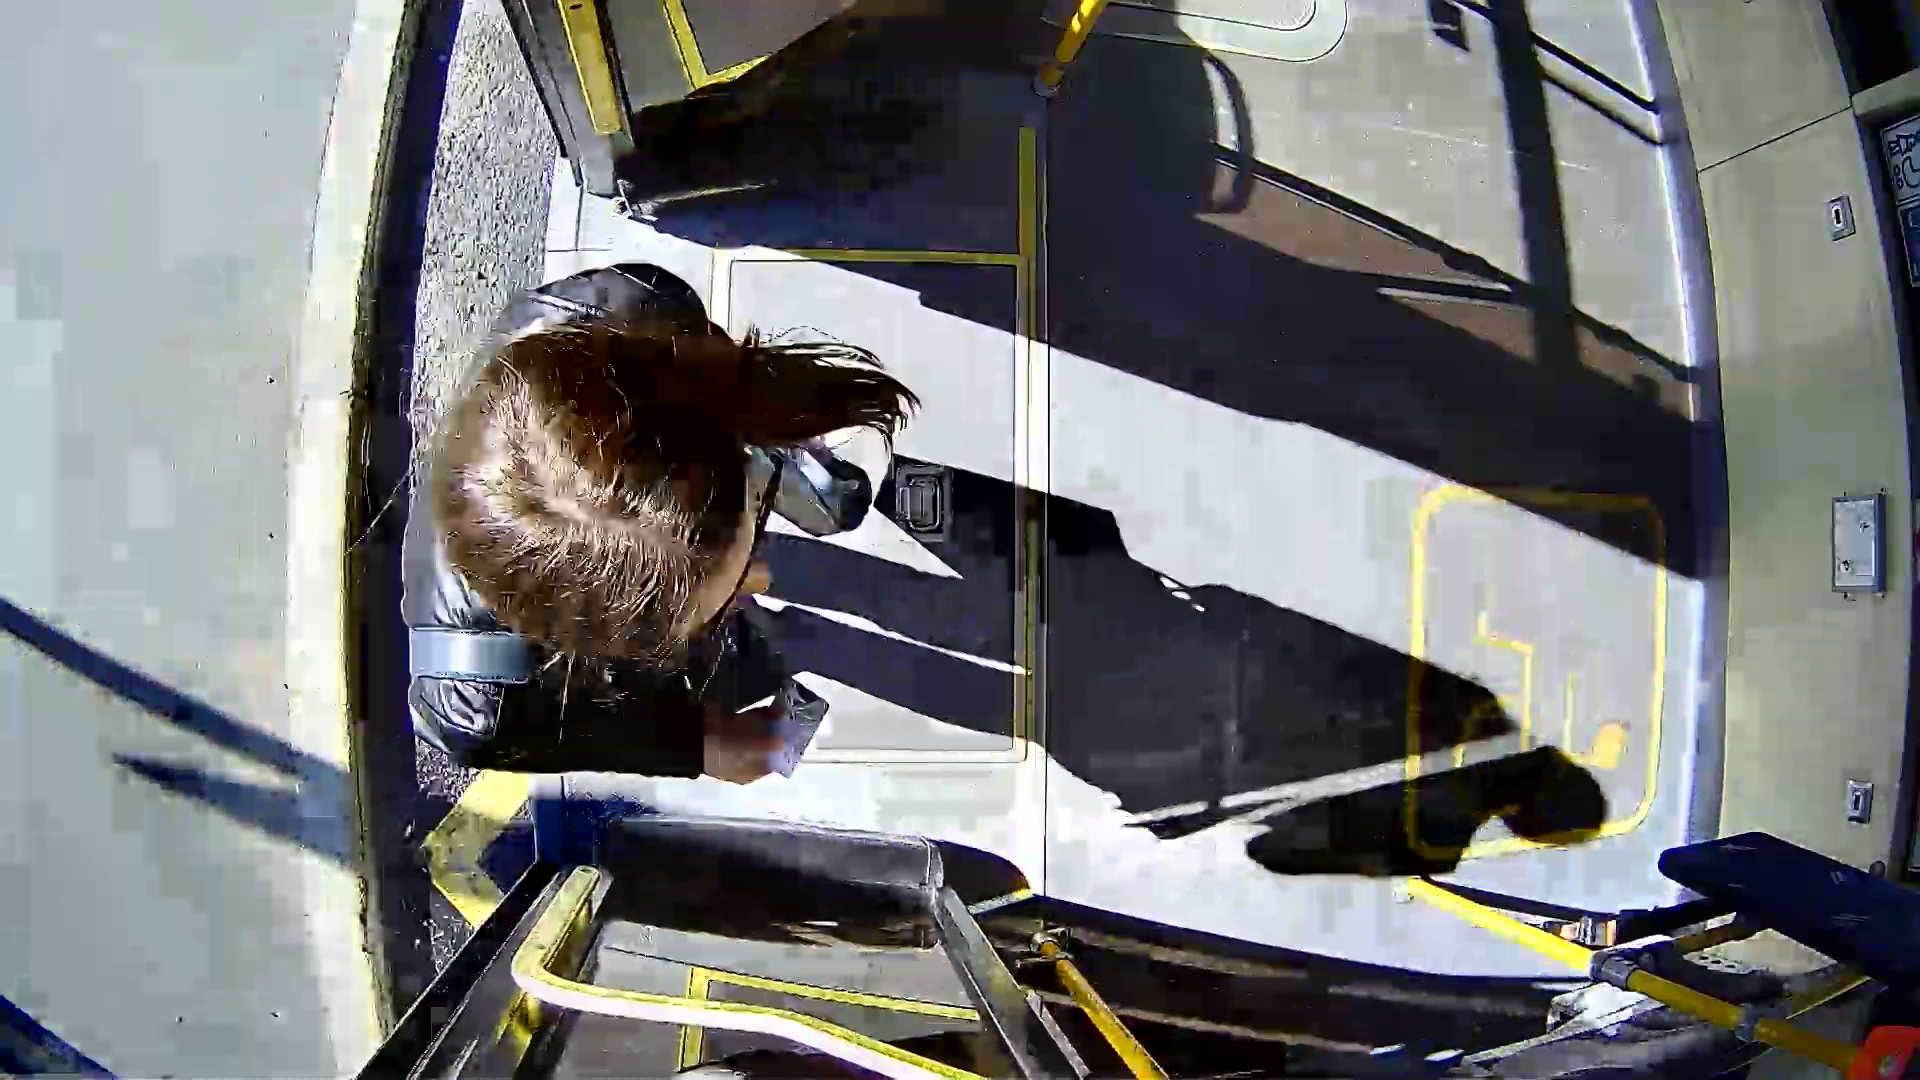person: (374, 285, 1002, 790)
